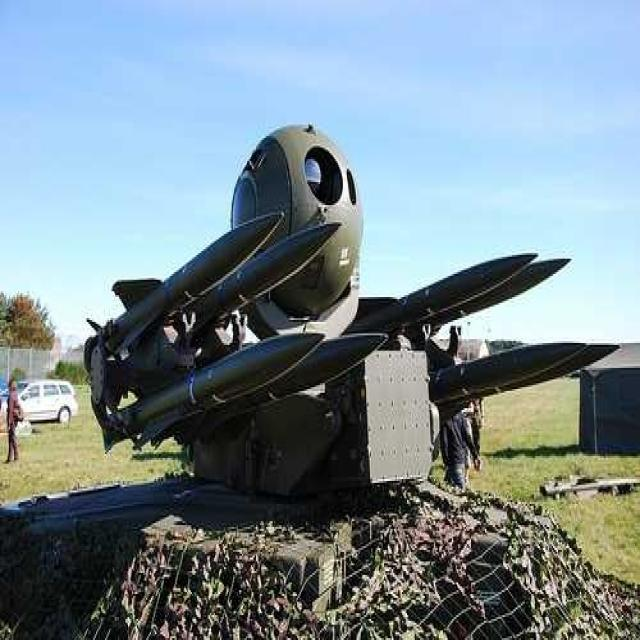missile: (85, 207, 283, 338), (111, 327, 321, 438), (168, 222, 342, 328), (363, 250, 538, 322), (435, 339, 613, 403), (437, 250, 571, 328)
